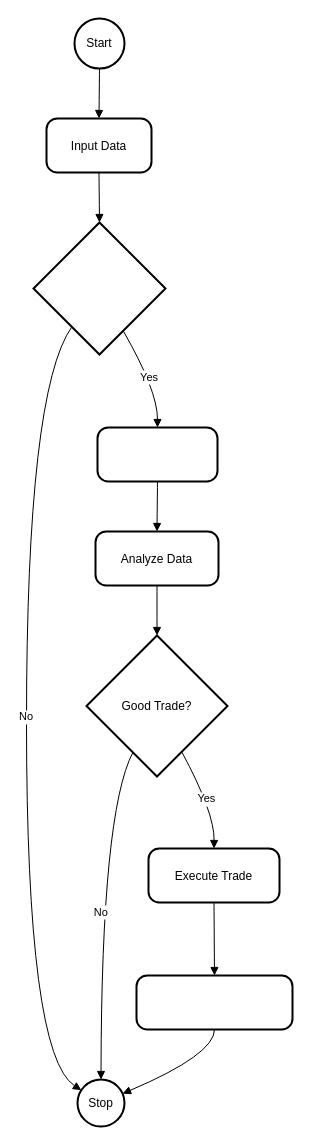
Image size: 310x1144. Some labels were removed from this diagram. Here are the shapes that lost their labels. From the top down, the centre of each, then its label:
At [99,288]: "Data valid?".
At [157,454]: "Process Data".
At [214,1002]: "Provide Feedback".
